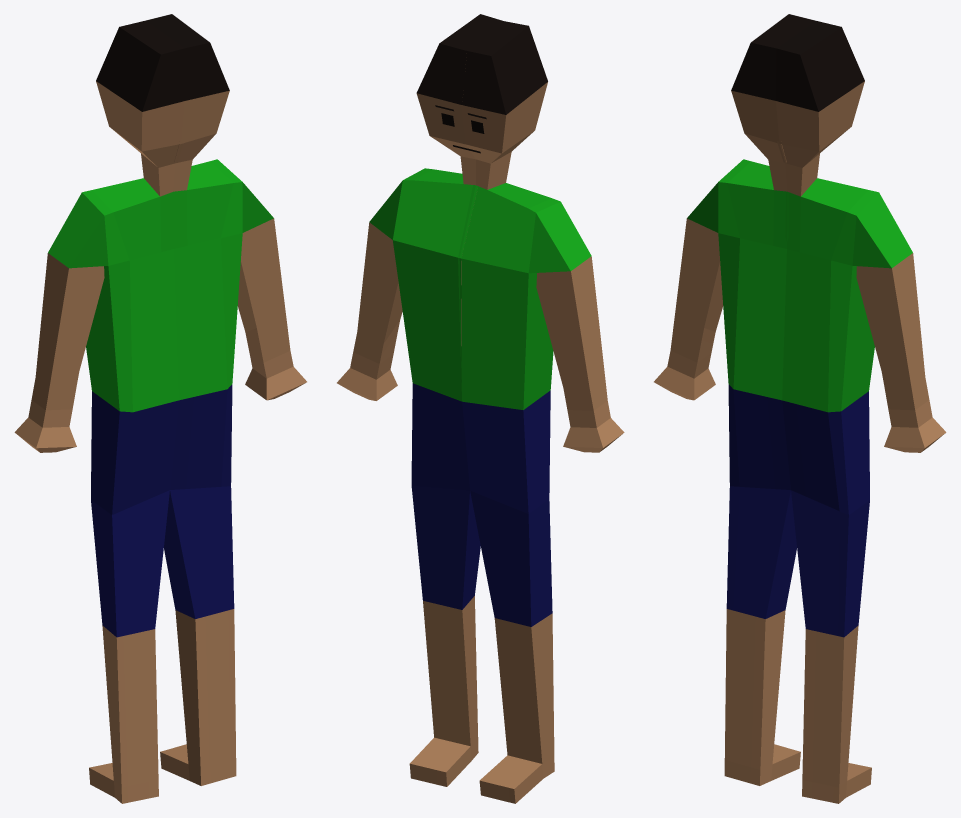
File: human1.fbx
3 views of the same model, side by side, from view 1: azimuth 30°, elevation 25°; view 2: azimuth 150°, elevation 25°; view 3: azimuth 330°, elevation 25° (orthographic).
Visible parts, largest first — view 1: Cube; view 2: Cube; view 3: Cube.
Part boxes in pixels (bbox=[...]): Cube: bbox=[14, 14, 306, 803]; Cube: bbox=[337, 14, 624, 803]; Cube: bbox=[654, 14, 946, 803].
Bounding box in the file's own units: 361 × 959 × 107.
